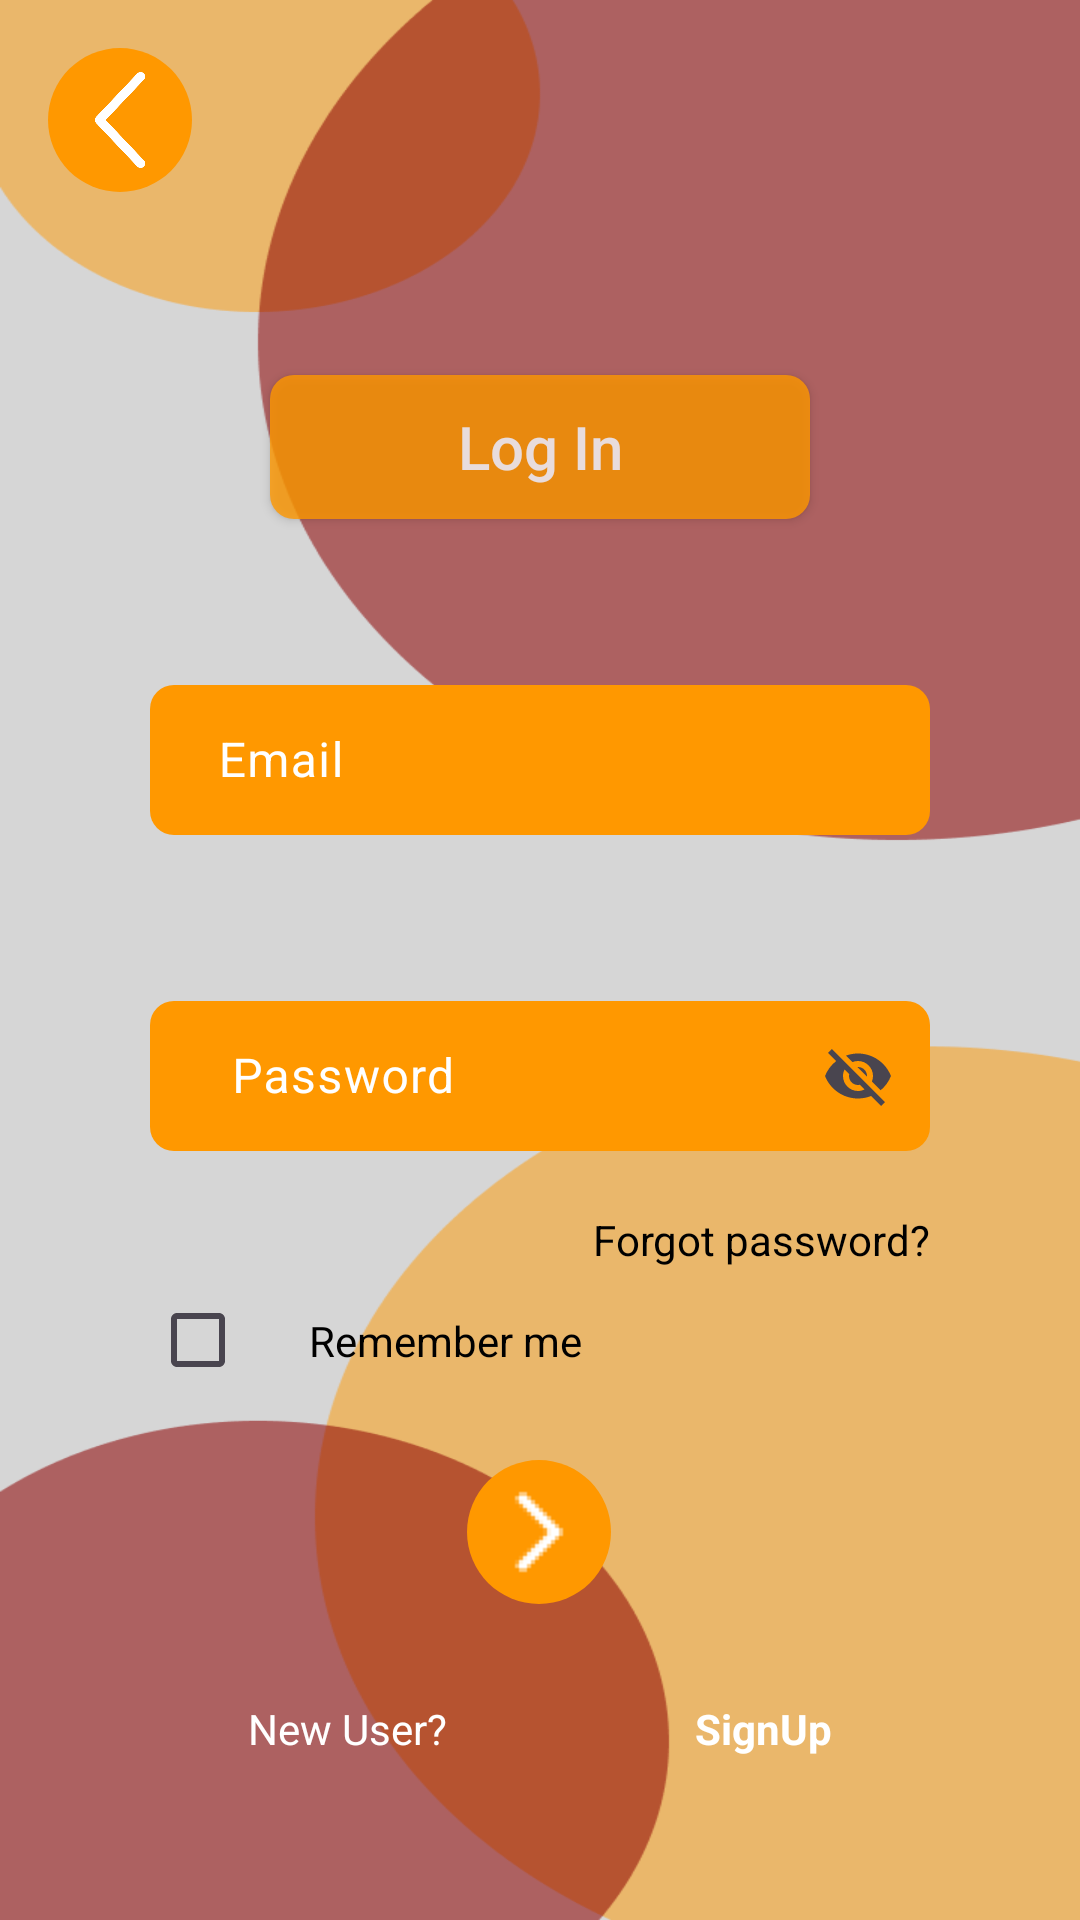

Icon click points for this 1080*1920 phone screenshot, format (x,y):
arro: (539,1532)
